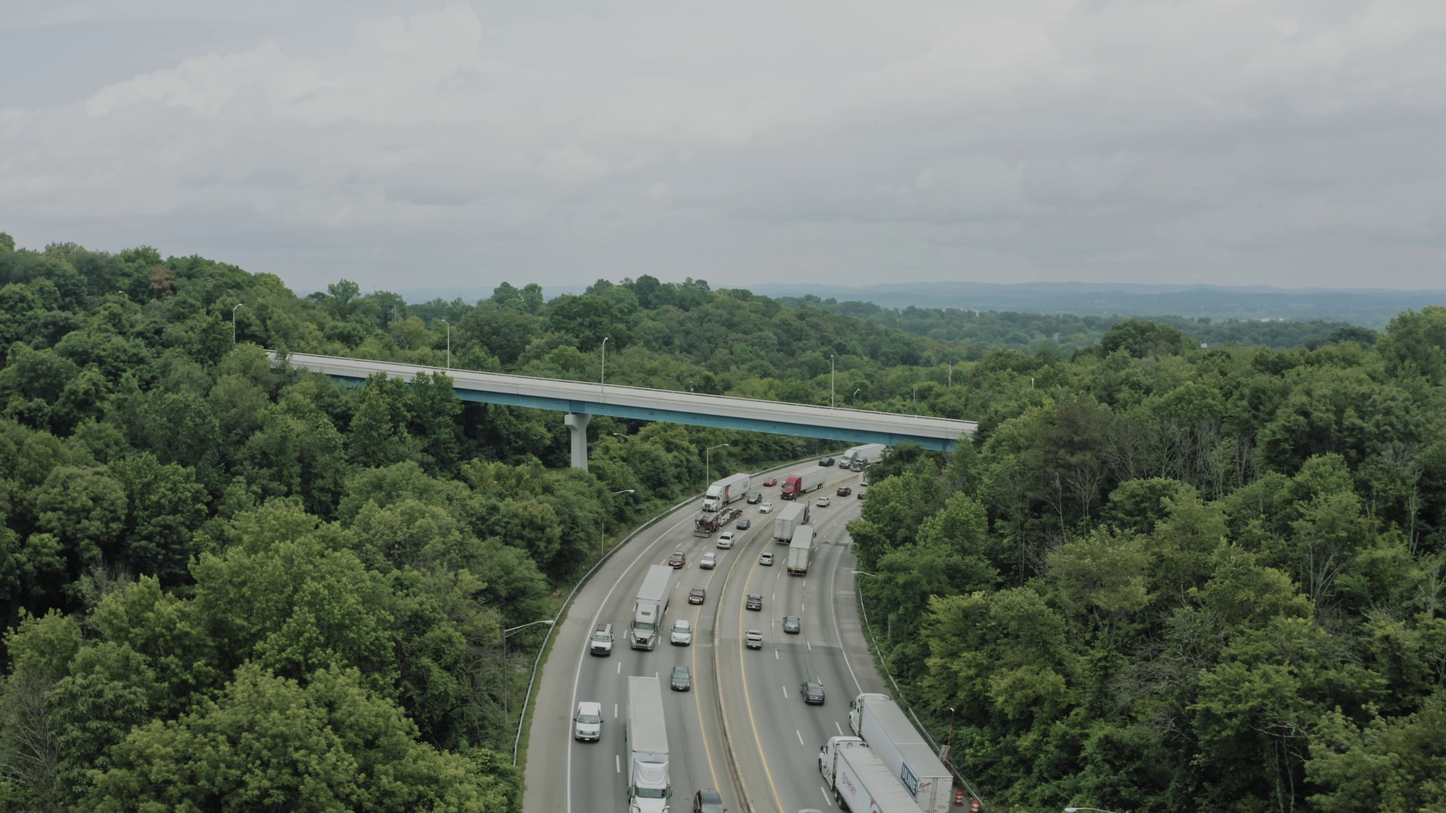Vehicle: (806, 734, 865, 785), (625, 760, 673, 813), (844, 688, 893, 736), (629, 604, 661, 651), (573, 702, 604, 742), (693, 788, 727, 813), (590, 623, 614, 657), (693, 511, 721, 538), (790, 502, 817, 527), (800, 681, 825, 705), (702, 486, 725, 512), (670, 666, 692, 692), (671, 619, 692, 646), (780, 475, 801, 500), (839, 443, 857, 471), (745, 629, 763, 649), (716, 531, 735, 549), (688, 587, 706, 605), (782, 616, 800, 634), (668, 551, 686, 569), (851, 453, 867, 473), (699, 552, 717, 569), (746, 593, 762, 611), (759, 552, 775, 566), (747, 492, 762, 505), (759, 501, 773, 514), (736, 518, 751, 530), (819, 457, 835, 467), (837, 486, 851, 497), (816, 496, 830, 507), (763, 477, 777, 487), (798, 808, 823, 813), (857, 491, 866, 499)
